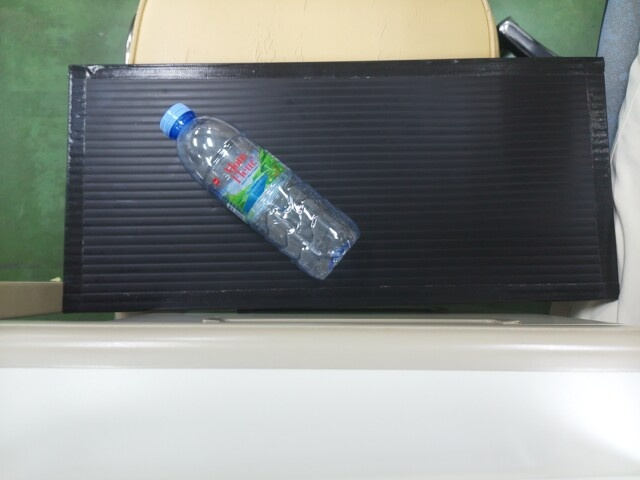plastic_bottle: (153, 92, 359, 276)
